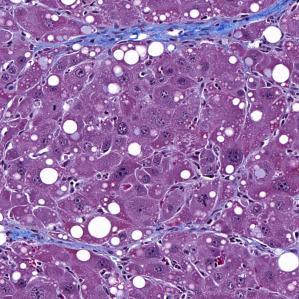fibrosis: (83, 20, 213, 59), (4, 224, 65, 250)
